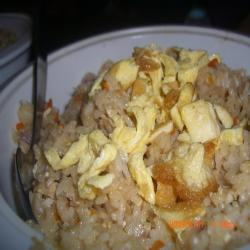rice: (41, 80, 237, 242)
